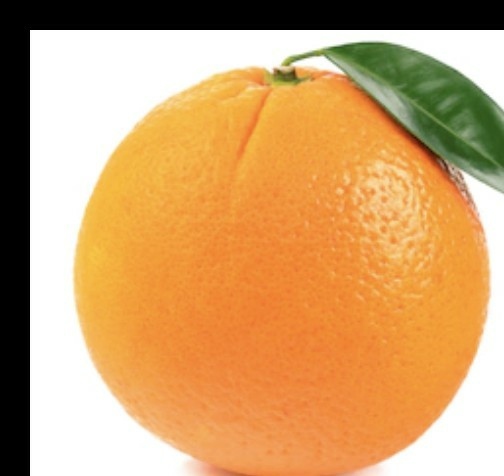fresh_orange: (74, 63, 490, 476)
